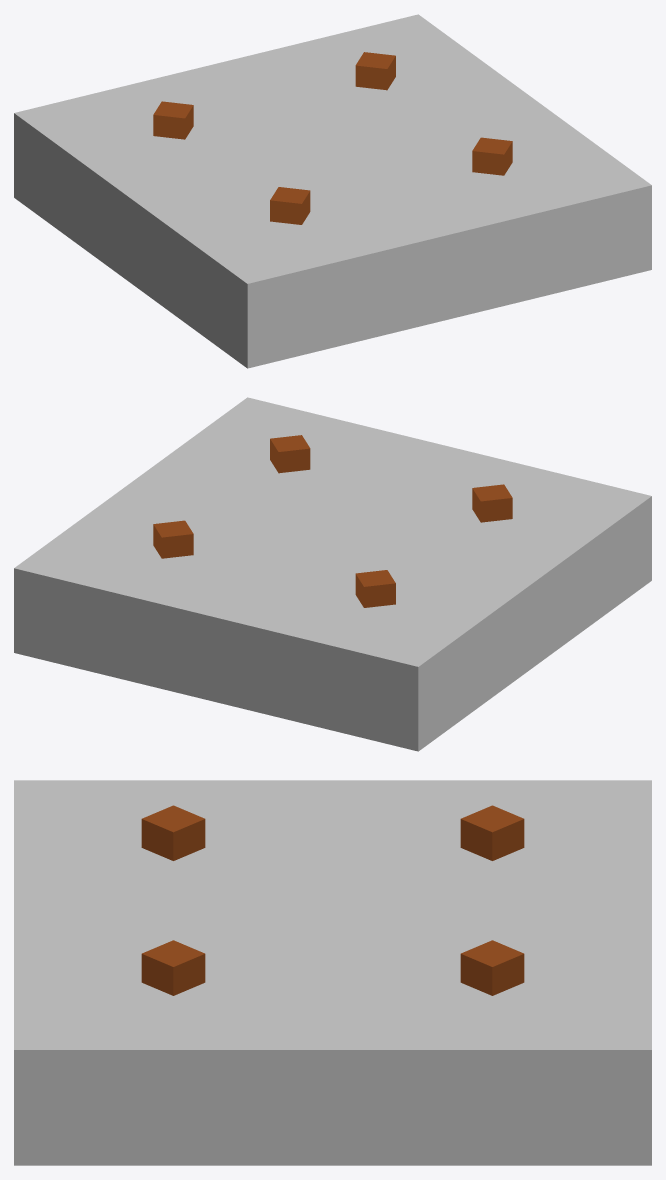
The model's file is hideseek.obj.
3 renders of one model, top to bottom at view 1: azimuth 30°, elevation 25°; view 2: azimuth 150°, elevation 25°; view 3: azimuth 270°, elevation 25°, orthographic. The views are drawn at different scales.
Size of the model in its own units: 20 by 5 by 20.
